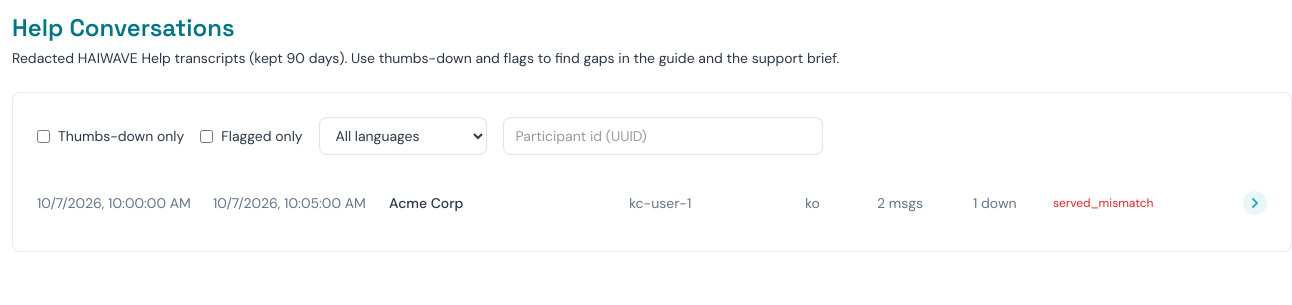
Test: AdminHelpPage › says so when a transcript is refused
Click the button with aria-label "Conversation 0b8a5a52-58b6-4a8e-9a39-9a1d4c7f1f10" at (652,203), box [37,179,1267,227]
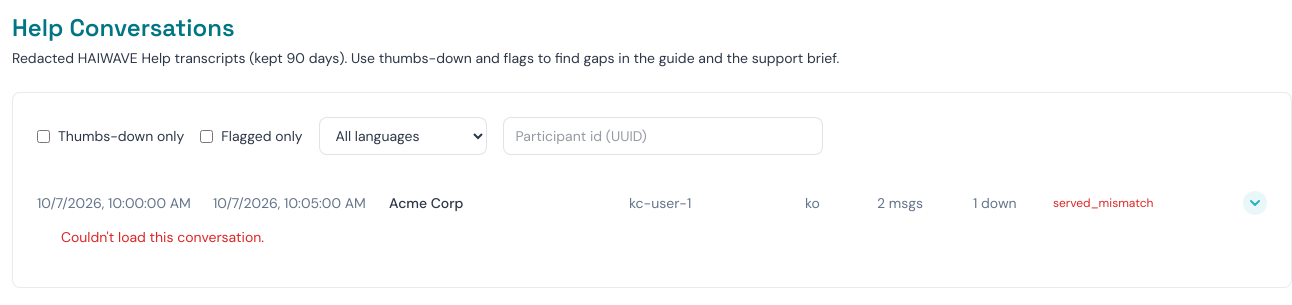
Now the text "Couldn't load this conversation." is shown, box [61,228,264,246]
